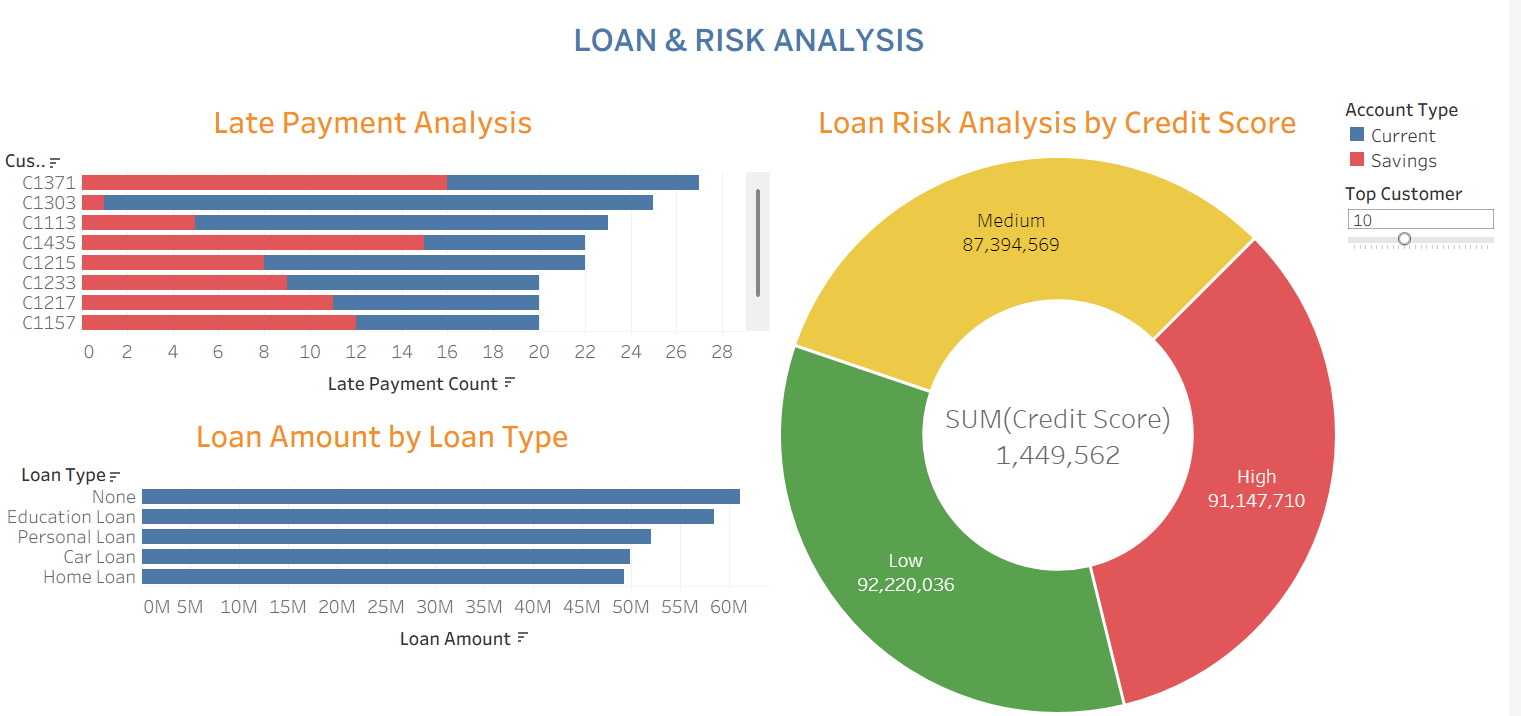

The dashboard page shown, as its layout file describes it:
{"tool":"tableau","page":{"name":"Dashboard 2","canvas":[1000,1000],"units":"permille","ordinal":1},"visuals":[{"type":"text","box":[5,10.7,990,115.3]},{"type":"worksheet","title":"Sheet 9","mark":"Automatic","rows":["Customer ID"],"cols":["Transaction Amount"],"box":[5,126,543.6,431.6]},{"type":"worksheet","title":"Sheet 7","mark":"Circle","box":[548.6,126,346.6,863.3]},{"type":"legend","title":"Sheet 7","param":"[federated.1l0fd5g0equtmm1236foh0vm7iet].[none:Branch Name:nk]","box":[895.3,126,99.8,213.1]},{"type":"parameter","param":"[Parameters].[Parameter 1]","box":[895.3,339.1,99.8,111.3]},{"type":"legend","title":"Sheet 8","param":"[federated.1l0fd5g0equtmm1236foh0vm7iet].[none:Branch Name:nk]","box":[895.3,450.4,99.8,213.1]},{"type":"worksheet","title":"Sheet 8","mark":"Automatic","rows":["Transaction Amount"],"cols":["Transaction Type","Branch Name"],"box":[5,557.6,543.6,431.6]}]}

Visuals, with their boxes on the dashboard's canvas, which has no fixed pixel size, in thousandths of its width and height (x1, y1, x2, y2). These are canvas units, not pixel positions in the 1521x716 screenshot, which may show the page scaled, cropped or inside an application window:
text: locate(5, 11, 995, 126)
"Sheet 9" worksheet: locate(5, 126, 549, 558)
"Sheet 7" worksheet (Circle marks): locate(549, 126, 895, 989)
"Sheet 7" legend: locate(895, 126, 995, 339)
parameter: locate(895, 339, 995, 450)
"Sheet 8" legend: locate(895, 450, 995, 664)
"Sheet 8" worksheet: locate(5, 558, 549, 989)
